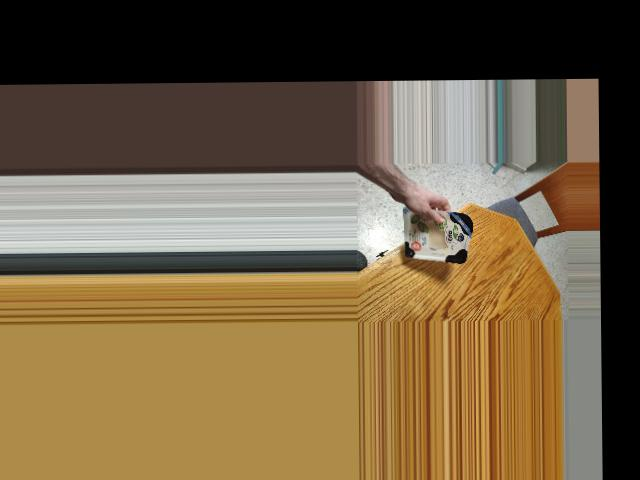cheese: (393, 207, 475, 257)
